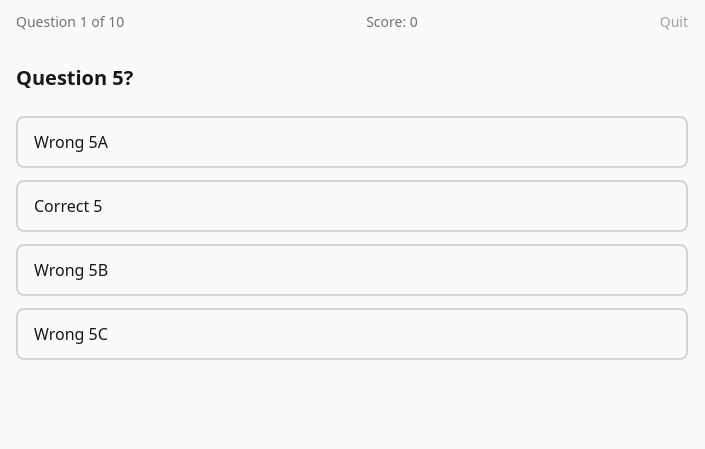
it: QuizPage › should show Next Question button after answering
Expected: the text "Next Question" is not shown
Note: Answer the question
What coordinates should you click on to do the following:
click the button "Correct 5"
I would click on:
 (68, 206)
Its box is [16,180,688,232].
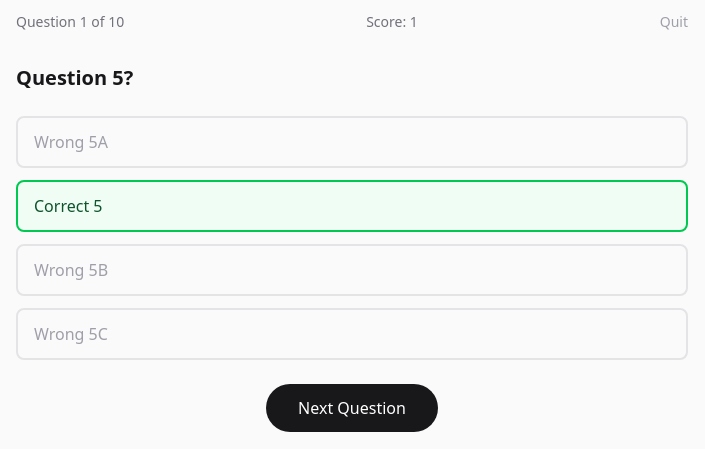
Expected: the button "Next Question" is shown, [266,384,438,432]
